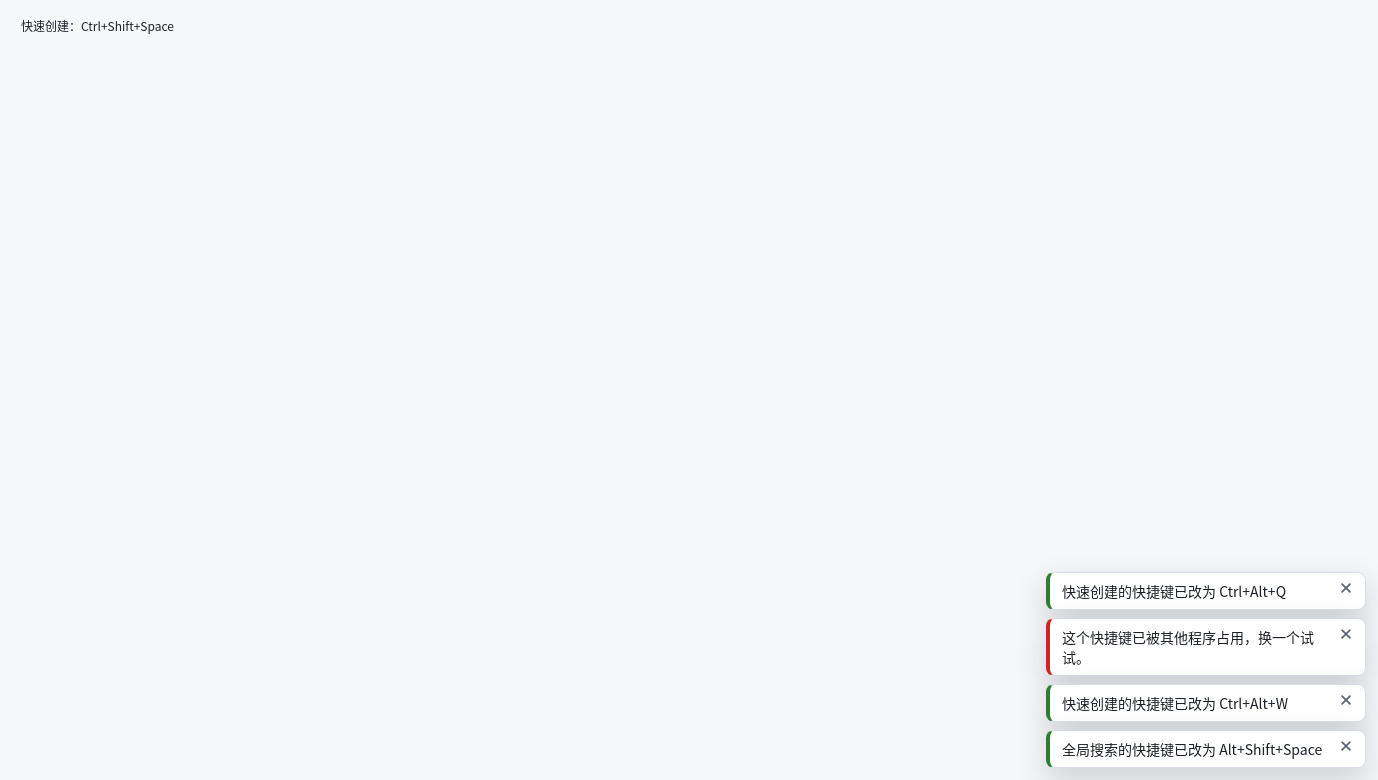
Test: ShortcutSetting › 改过的快捷键可以一键恢复默认；本来就是默认时不显示这个按钮
Step 1. Click the button "快速创建：Ctrl+Shift+Space" → coordinates (156, 26), box [12,12,300,40]
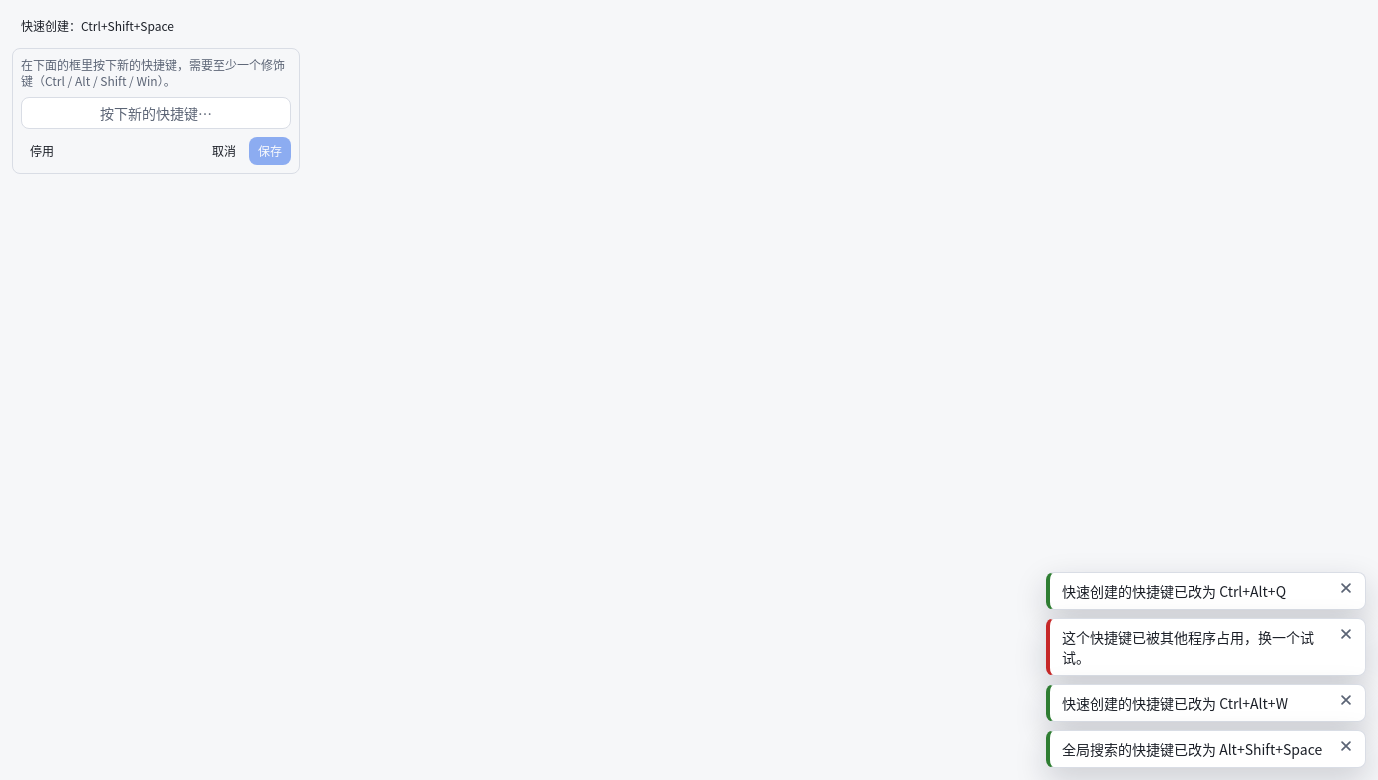
Check: the button "恢复默认" is not shown
Step 2. Press w in the field labelled "新的快捷键", box [21,97,291,129]
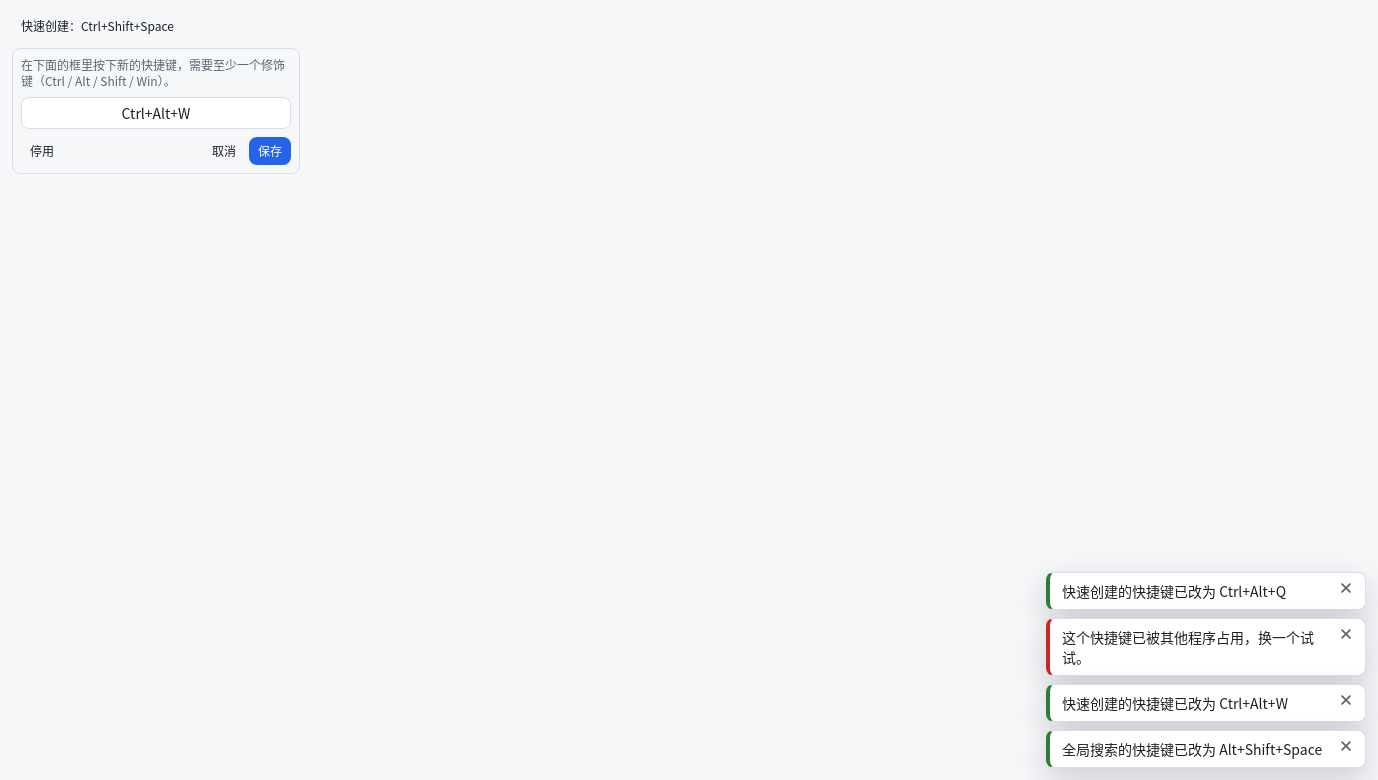
Step 3. Click the button "保存" → coordinates (270, 151), box [249,137,291,165]
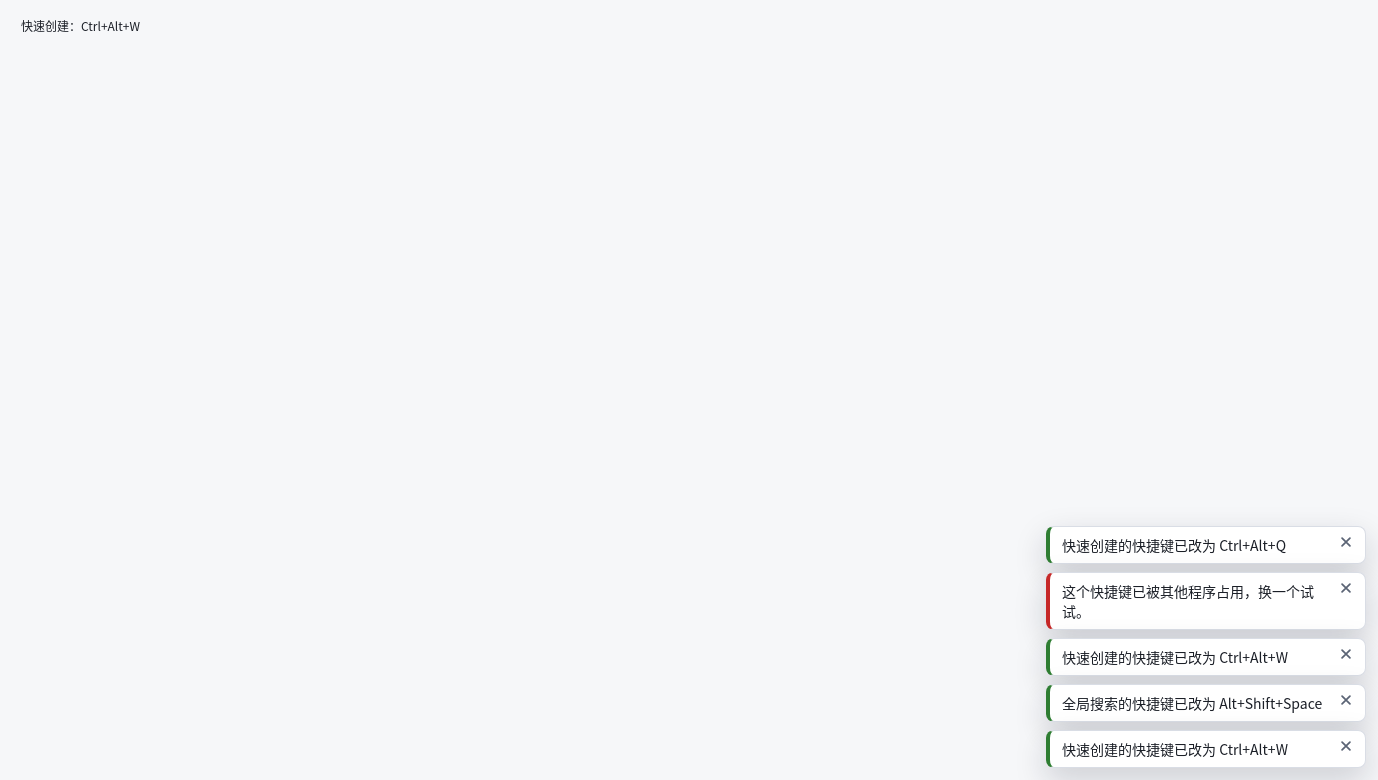
Step 4. Click the button "快速创建：Ctrl+Alt+W" → coordinates (80, 26), box [12,12,300,40]
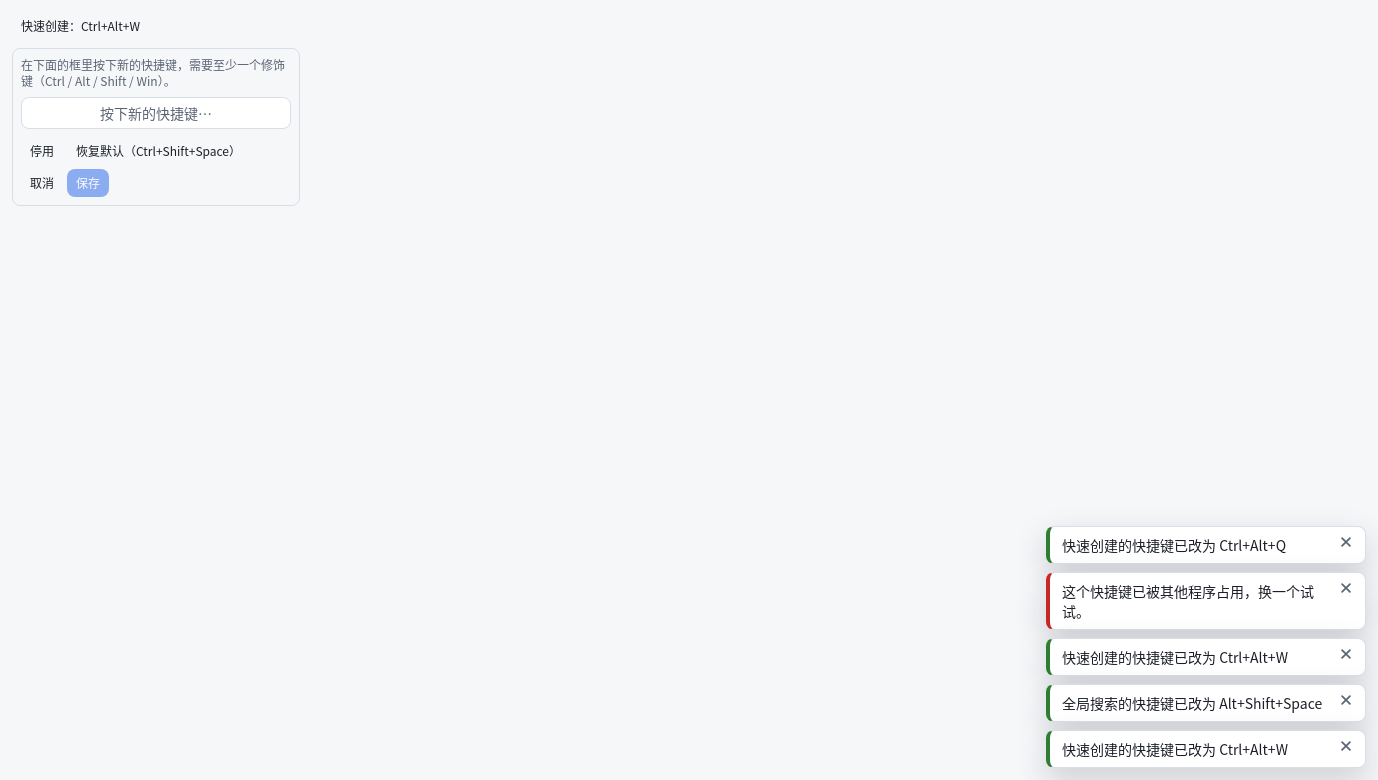
Step 5. Click the button "恢复默认（Ctrl+Shift+Space）" → coordinates (158, 151), box [67,137,250,165]
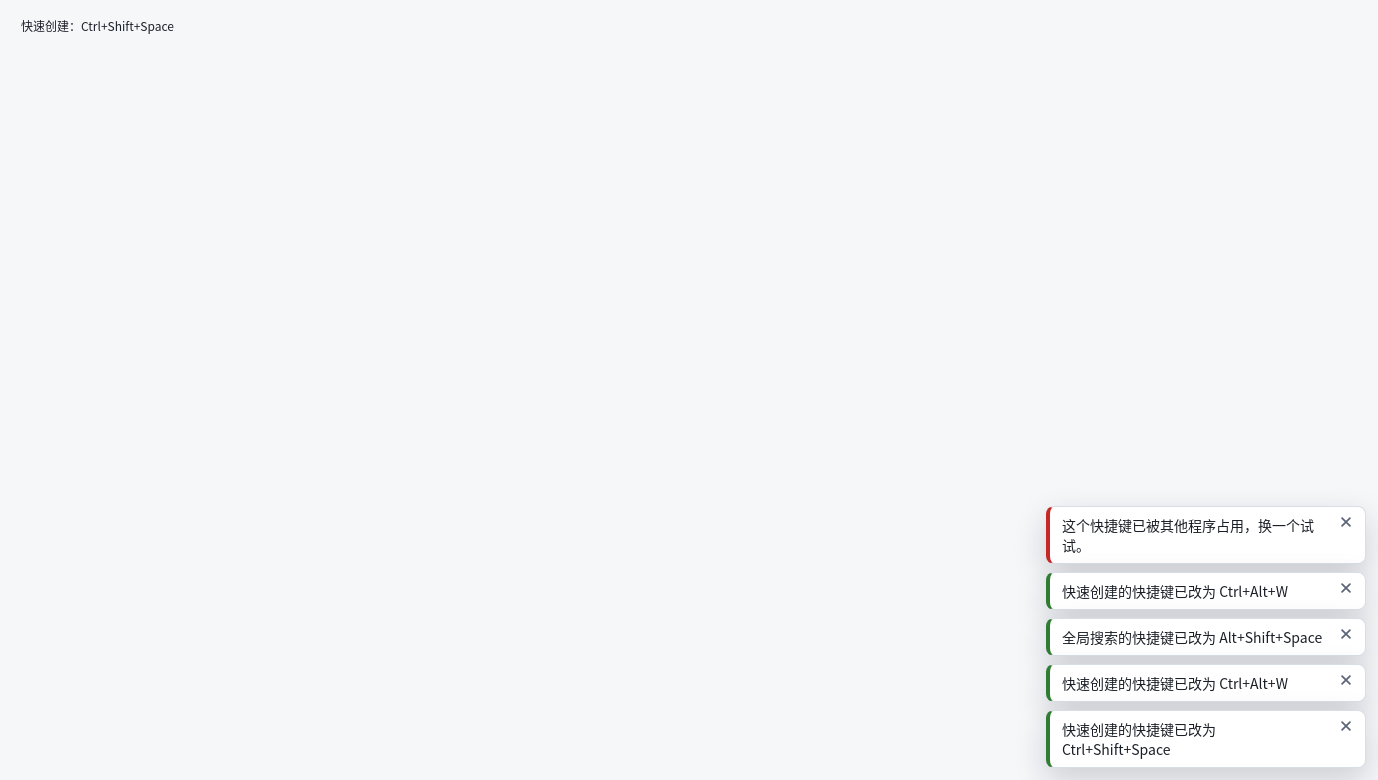
Check: the button "快速创建：Ctrl+Shift+Space" is shown, box [12,12,300,40]
